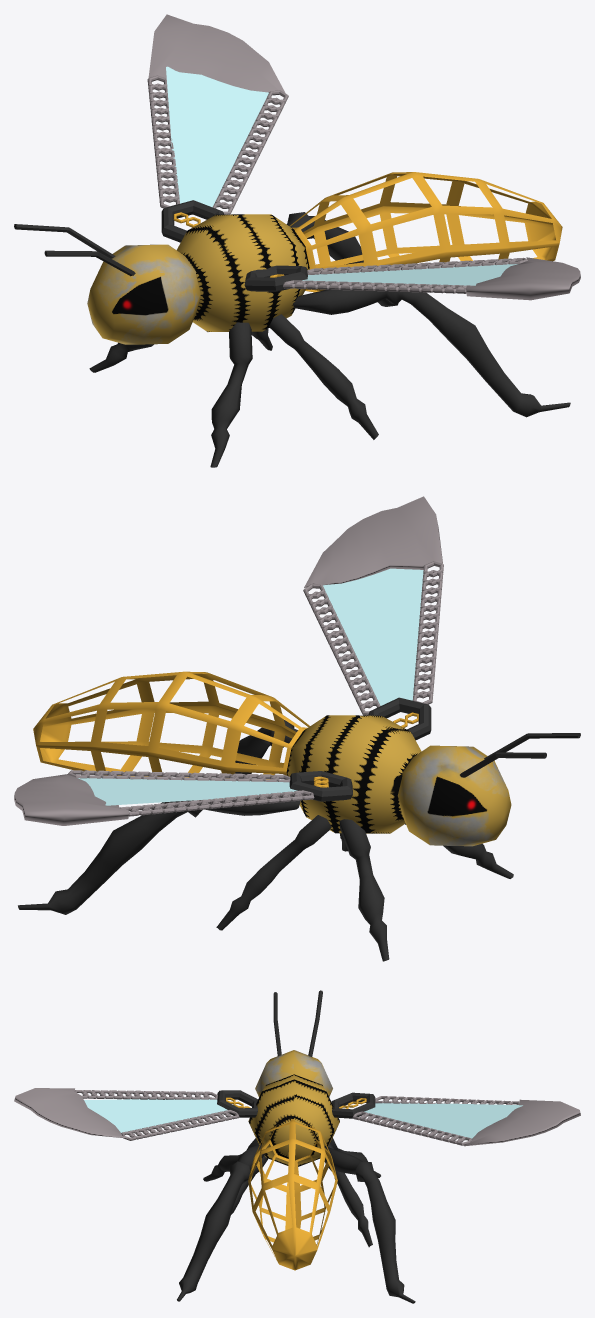
Rendered from BEE.fbx.
3 views of the same model, one above another, from view 1: azimuth 30°, elevation 25°; view 2: azimuth 150°, elevation 25°; view 3: azimuth 270°, elevation 25° (orthographic). The views are drawn at different scales.
Visible parts, largest first — view 1: Body2, Body, Head, Plane.001, Cylinder.003, Leg3, Cylinder.002, Leg 1, Plane, leg2, Torus.010, Torus.011 (+8 smaller); view 2: Body2, Body, Head, Plane, Cylinder.002, Leg3.001, Cylinder.003, Plane.001, Leg 1.001, Torus.004, Torus.005, leg2.001 (+7 smaller); view 3: Body2, Body, Plane.001, Leg3.001, Plane, Leg3, Cylinder.002, Cylinder.003, Head, Torus.005, Torus.004, Torus.010 (+5 smaller).
Boxes of the visible parts, box(x1,y1,x2,y2) form: Body2: box(289, 172, 562, 292); Body: box(177, 214, 309, 331); Head: box(87, 244, 200, 344); Plane.001: box(166, 66, 268, 207); Cylinder.003: box(148, 14, 285, 93); Leg3: box(293, 289, 570, 417); Cylinder.002: box(466, 257, 580, 300); Leg 1: box(210, 322, 252, 467); Plane: box(302, 264, 517, 285); leg2: box(269, 314, 378, 439); Torus.010: box(212, 90, 288, 214); Torus.011: box(147, 75, 179, 208); Body2: box(33, 671, 309, 779); Body: box(286, 715, 421, 833); Head: box(397, 745, 511, 846); Plane: box(323, 568, 423, 705); Cylinder.002: box(304, 496, 442, 588); Leg3.001: box(18, 796, 300, 914); Cylinder.003: box(14, 774, 129, 825); Plane.001: box(78, 778, 297, 805); Leg 1.001: box(339, 819, 389, 961); Torus.004: box(412, 561, 443, 704); Torus.005: box(303, 584, 380, 715); leg2.001: box(216, 815, 331, 930); Body2: box(248, 1119, 337, 1270); Body: box(248, 1074, 339, 1166); Plane.001: box(364, 1103, 522, 1138); Leg3.001: box(324, 1146, 415, 1303); Plane: box(84, 1099, 227, 1132); Leg3: box(177, 1144, 265, 1301); Cylinder.002: box(14, 1088, 129, 1138); Cylinder.003: box(464, 1099, 580, 1146); Head: box(255, 1050, 332, 1097); Torus.005: box(121, 1110, 239, 1140); Torus.004: box(74, 1090, 217, 1099); Torus.010: box(352, 1111, 471, 1145).
Size of the model in its own units: 64.91 by 28.18 by 85.01.
7 materials, 2 textured.
